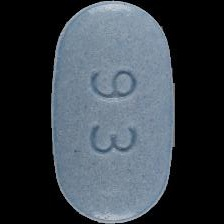0093-5861: (0, 0, 224, 224)
